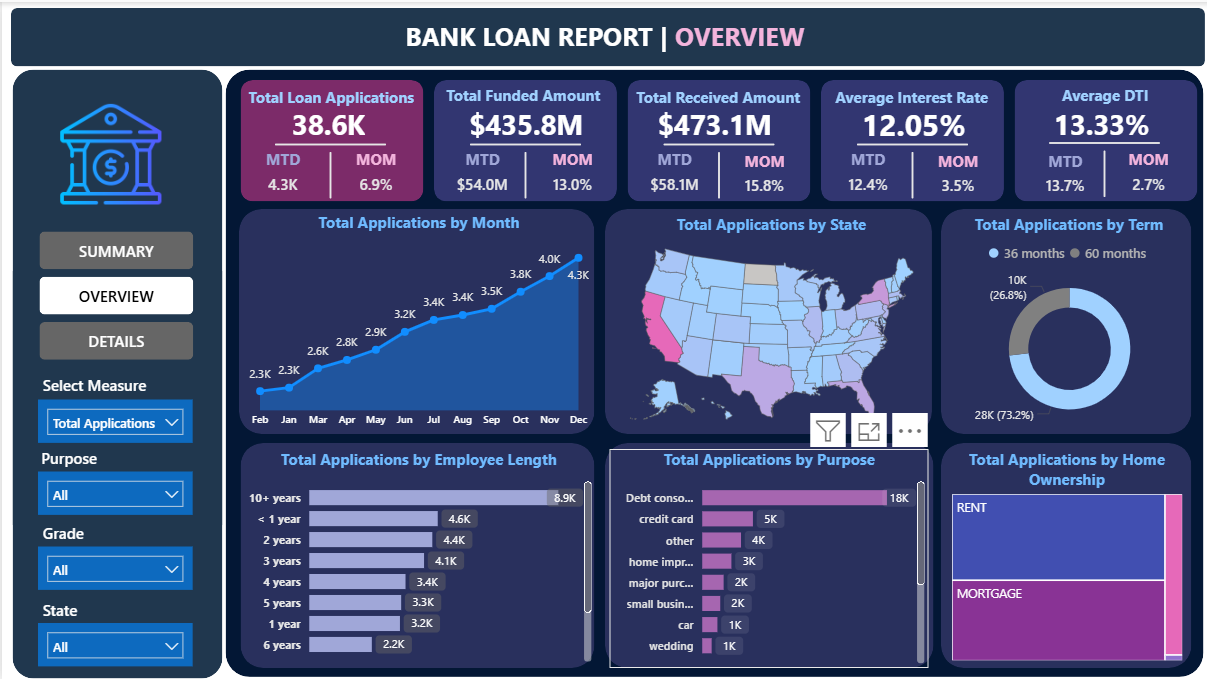

The dashboard page shown, as its layout file describes it:
{"tool":"powerbi","page":{"name":"OVERVIEW","canvas":[1280,720],"ordinal":1},"visuals":[{"type":"shape","box":[1110.2,0,117.7,299],"z":0,"group":"g6"},{"type":"shape","box":[289.5,1.6,117.7,299],"z":0,"group":"g2"},{"type":"shape","box":[496.3,1.6,117.7,299],"z":0,"group":"g3"},{"type":"shape","box":[701.5,1.6,117.7,299],"z":0,"group":"g4"},{"type":"shape","box":[906.6,1.6,117.7,299],"z":0,"group":"g5"},{"type":"shape","box":[237,71.6,1037.1,644.2],"z":0},{"type":"shape","box":[11.1,71.6,222.7,645.8],"z":1000},{"type":"shape","box":[1110.2,157.5,117.7,49.3],"z":1000,"group":"g6"},{"type":"shape","box":[289.5,159.1,117.7,49.3],"z":1000,"group":"g2"},{"type":"shape","box":[496.3,159.1,117.7,49.3],"z":1000,"group":"g3"},{"type":"shape","box":[701.5,159.1,117.7,49.3],"z":1000,"group":"g4"},{"type":"shape","box":[906.6,159.1,117.7,49.3],"z":1000,"group":"g5"},{"type":"shape","box":[9.5,6.4,1266.1,62],"z":2000},{"type":"textbox","box":[380.2,12.7,518.5,52.5],"z":3000},{"type":"shape","box":[252.9,82.7,194.1,128.8],"z":4000},{"type":"shape","box":[458.1,82.7,194,128.8],"z":5000},{"type":"shape","box":[663.3,82.7,194,128.8],"z":6000},{"type":"shape","box":[1073.7,82.7,194.1,128.8],"z":7000},{"type":"shape","box":[251.3,219.5,377,238.6],"z":8000},{"type":"image","box":[54.3,97.1,122.5,128.8],"z":9000},{"type":"cardVisual","fields":{"Data":["public bank_loan_data.Total Recieved Amount"]},"box":[666.6,93.8,190.9,68.4],"z":10000},{"type":"cardVisual","fields":{"Data":["public bank_loan_data.Total Applications"]},"box":[278.8,93.8,147.9,68.4],"z":11000,"group":"g1"},{"type":"cardVisual","fields":{"Data":["public bank_loan_data.Total Funded Amount"]},"box":[460.2,93.8,192.5,68.4],"z":11000},{"type":"cardVisual","fields":{"Data":["DATE TABLE.Average DTI"]},"box":[1086.4,93.8,163.8,68.4],"z":12000},{"type":"textbox","box":[256.1,84.3,189.3,35],"z":13000},{"type":"textbox","box":[458.6,83.2,189.3,35],"z":14000},{"type":"textbox","box":[665.4,84.3,189.3,35],"z":15000},{"type":"textbox","box":[1074.7,83.2,189.3,35],"z":16000},{"type":"group","id":"g1","title":"Group 1","box":[269.3,93.8,162.1,112.9],"z":17000},{"type":"cardVisual","title":"MTD","fields":{"Data":["public bank_loan_data.MTD Loan Applications"]},"box":[269.3,155.8,58.9,50.9],"z":17000,"group":"g1"},{"type":"cardVisual","title":"MOM","fields":{"Data":["public bank_loan_data.MOM Loan Applications"]},"box":[363,155.2,68.4,50.9],"z":18000,"group":"g1"},{"type":"cardVisual","title":"MTD","fields":{"Data":["public bank_loan_data.MTD Total Amount Received"]},"box":[671.2,155.9,84.3,50.9],"z":18000},{"type":"cardVisual","title":"MTD","fields":{"Data":["public bank_loan_data.MTD FundedAmount"]},"box":[462.9,155.9,93.8,50.9],"z":19000},{"type":"cardVisual","title":"MTD","fields":{"Data":["public bank_loan_data.MTD Average DTI"]},"box":[1086.4,157.5,82.7,50.9],"z":20000},{"type":"shape","box":[868.5,82.7,194,128.8],"z":21000},{"type":"cardVisual","title":"MOM","fields":{"Data":["public bank_loan_data.MOM Total Received Amount"]},"box":[763.5,157.5,90.7,50.9],"z":22000},{"type":"cardVisual","title":"MOM","fields":{"Data":["public bank_loan_data.MOM Total Funded Amount"]},"box":[571,155.9,68.4,50.9],"z":23000},{"type":"cardVisual","title":"MOM","fields":{"Data":["public bank_loan_data.MOM Average DTI"]},"box":[1181.8,155.9,68.4,50.9],"z":24000},{"type":"cardVisual","fields":{"Data":["public bank_loan_data.Average Interest Rate"]},"box":[882.8,93.8,176.6,68.4],"z":25000},{"type":"textbox","box":[870.5,83.7,189.3,35],"z":26000},{"type":"cardVisual","title":"MTD","fields":{"Data":["public bank_loan_data.MTD Average Interest Rate"]},"box":[876.4,155.3,84.3,50.9],"z":27000},{"type":"cardVisual","title":"MOM","fields":{"Data":["public bank_loan_data.MOM Average Interest Rate"]},"box":[968.6,156.9,90.7,50.9],"z":28000},{"type":"group","id":"g2","title":"Group 2","box":[289.5,1.6,117.7,299],"z":29000},{"type":"group","id":"g3","title":"Group 2","box":[496.3,1.6,117.7,299],"z":30000},{"type":"group","id":"g4","title":"Group 2","box":[701.5,1.6,117.7,299],"z":31000},{"type":"group","id":"g5","title":"Group 2","box":[906.6,1.6,117.7,299],"z":32000},{"type":"group","id":"g6","title":"Group 2","box":[1110.2,0,117.7,299],"z":33000},{"type":"slicer","fields":{"Values":["public bank_loan_data.purpose"]},"box":[38.4,498.5,163.8,46.1],"z":34000},{"type":"textbox","box":[37.2,468.4,189.3,35],"z":35000},{"type":"slicer","fields":{"Values":["public bank_loan_data.grade"]},"box":[38.4,577.8,163.8,46.1],"z":36000},{"type":"textbox","box":[38.4,547.6,189.3,35],"z":37000},{"type":"slicer","fields":{"Values":["public bank_loan_data.address"]},"box":[38.5,658.5,163.8,46.1],"z":38000},{"type":"textbox","box":[38.5,628.2,189.3,35],"z":39000},{"type":"shape","box":[252.9,467.6,375.4,238.6],"z":40000},{"type":"shape","box":[639.4,219.5,346.8,238.6],"z":41000},{"type":"shape","box":[639.4,467.6,348.3,238.6],"z":42000},{"type":"shape","box":[995.7,219.5,265.6,238.6],"z":43000},{"type":"shape","box":[995.7,467.6,265.6,238.6],"z":44000},{"type":"slicer","fields":{"Values":["Field Selection.Field Selection"]},"box":[38.4,421.1,163.8,46.1],"z":45000},{"type":"textbox","box":[38.4,389,189.3,35],"z":46000},{"type":"areaChart","fields":{"Y":["public bank_loan_data.Total Applications"],"Category":["DATE TABLE.MONTH"]},"box":[256.1,222.7,372.2,237],"z":47000},{"type":"shapeMap","fields":{"Value":["public bank_loan_data.Total Applications"],"Category":["public bank_loan_data.address"]},"box":[644.2,224.3,343.6,233.8],"z":48000},{"type":"donutChart","fields":{"Y":["public bank_loan_data.Total Applications"],"Category":["public bank_loan_data.term"]},"box":[998.9,224.3,265.6,235.4],"z":49000},{"type":"barChart","fields":{"Y":["public bank_loan_data.Total Applications"],"Category":["public bank_loan_data.emp_length"]},"box":[254.5,474,375.4,230.6],"z":50000},{"type":"barChart","fields":{"Y":["public bank_loan_data.Total Applications"],"Category":["public bank_loan_data.purpose"]},"box":[644.2,474,338.8,232.2],"z":51000},{"type":"treemap","title":"Total Applications by Home Ownership","fields":{"Values":["public bank_loan_data.Total Applications"],"Group":["public bank_loan_data.home_ownership"]},"box":[1002.1,474,254.5,229],"z":52000},{"type":"pageNavigator","box":[39.8,243.4,163.8,138.4],"z":52001}]}

Visuals, with their boxes in screenshot pixels (x1, y1, x2, y2), scaled from the page's 1280x720 canvas onto the 1207x679 screenshot:
shape: box=[1047, 0, 1158, 282]
shape: box=[273, 2, 384, 283]
shape: box=[468, 2, 579, 283]
shape: box=[661, 2, 772, 283]
shape: box=[855, 2, 966, 283]
shape: box=[223, 68, 1201, 675]
shape: box=[10, 68, 220, 677]
shape: box=[1047, 149, 1158, 195]
shape: box=[273, 150, 384, 197]
shape: box=[468, 150, 579, 197]
shape: box=[661, 150, 772, 197]
shape: box=[855, 150, 966, 197]
shape: box=[9, 6, 1203, 65]
textbox: box=[359, 12, 847, 61]
shape: box=[238, 78, 422, 199]
shape: box=[432, 78, 615, 199]
shape: box=[625, 78, 808, 199]
shape: box=[1012, 78, 1195, 199]
shape: box=[237, 207, 592, 432]
image: box=[51, 92, 167, 213]
cardVisual - public bank_loan_data.Total Recieved Amount: box=[629, 88, 809, 153]
cardVisual - public bank_loan_data.Total Applications: box=[263, 88, 402, 153]
cardVisual - public bank_loan_data.Total Funded Amount: box=[434, 88, 615, 153]
cardVisual - DATE TABLE.Average DTI: box=[1024, 88, 1179, 153]
textbox: box=[241, 79, 420, 113]
textbox: box=[432, 78, 611, 111]
textbox: box=[627, 79, 806, 113]
textbox: box=[1013, 78, 1192, 111]
"Group 1" group: box=[254, 88, 407, 195]
"MTD" cardVisual: box=[254, 147, 309, 195]
"MOM" cardVisual: box=[342, 146, 407, 194]
"MTD" cardVisual: box=[633, 147, 712, 195]
"MTD" cardVisual: box=[437, 147, 525, 195]
"MTD" cardVisual: box=[1024, 149, 1102, 197]
shape: box=[819, 78, 1002, 199]
"MOM" cardVisual: box=[720, 149, 805, 197]
"MOM" cardVisual: box=[538, 147, 603, 195]
"MOM" cardVisual: box=[1114, 147, 1179, 195]
cardVisual - public bank_loan_data.Average Interest Rate: box=[832, 88, 999, 153]
textbox: box=[821, 79, 999, 112]
"MTD" cardVisual: box=[826, 146, 906, 194]
"MOM" cardVisual: box=[913, 148, 999, 196]
"Group 2" group: box=[273, 2, 384, 283]
"Group 2" group: box=[468, 2, 579, 283]
"Group 2" group: box=[661, 2, 772, 283]
"Group 2" group: box=[855, 2, 966, 283]
"Group 2" group: box=[1047, 0, 1158, 282]
slicer - public bank_loan_data.purpose: box=[36, 470, 191, 514]
textbox: box=[35, 442, 214, 475]
slicer - public bank_loan_data.grade: box=[36, 545, 191, 588]
textbox: box=[36, 516, 215, 549]
slicer - public bank_loan_data.address: box=[36, 621, 191, 664]
textbox: box=[36, 592, 215, 625]
shape: box=[238, 441, 592, 666]
shape: box=[603, 207, 930, 432]
shape: box=[603, 441, 931, 666]
shape: box=[939, 207, 1189, 432]
shape: box=[939, 441, 1189, 666]
slicer - Field Selection.Field Selection: box=[36, 397, 191, 441]
textbox: box=[36, 367, 215, 400]
areaChart - public bank_loan_data.Total Applications x DATE TABLE.MONTH: box=[241, 210, 592, 434]
shapeMap - public bank_loan_data.Total Applications x public bank_loan_data.address: box=[607, 212, 931, 432]
donutChart - public bank_loan_data.Total Applications x public bank_loan_data.term: box=[942, 212, 1192, 434]
barChart - public bank_loan_data.Total Applications x public bank_loan_data.emp_length: box=[240, 447, 594, 664]
barChart - public bank_loan_data.Total Applications x public bank_loan_data.purpose: box=[607, 447, 927, 666]
"Total Applications by Home Ownership" treemap: box=[945, 447, 1185, 663]
pageNavigator: box=[38, 230, 192, 360]
